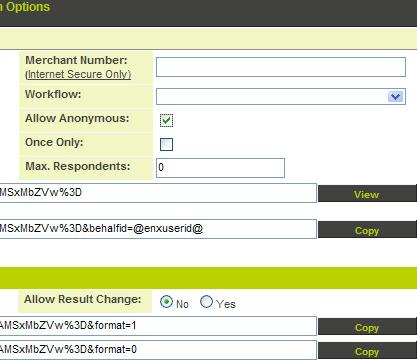button: (316, 181, 417, 205), (316, 315, 417, 337), (316, 219, 417, 240), (318, 339, 417, 359)
checkbox: (158, 134, 178, 154), (155, 111, 176, 129)
checkbox_with_label: (24, 132, 181, 157), (25, 109, 178, 129)
field: (154, 54, 409, 79), (153, 87, 405, 106), (152, 155, 287, 181)
field_with_label: (25, 52, 411, 80), (23, 85, 409, 108), (24, 152, 290, 182)
radio: (155, 292, 175, 311), (199, 292, 214, 311)
radio_with_label: (196, 290, 235, 314), (153, 290, 188, 313)
